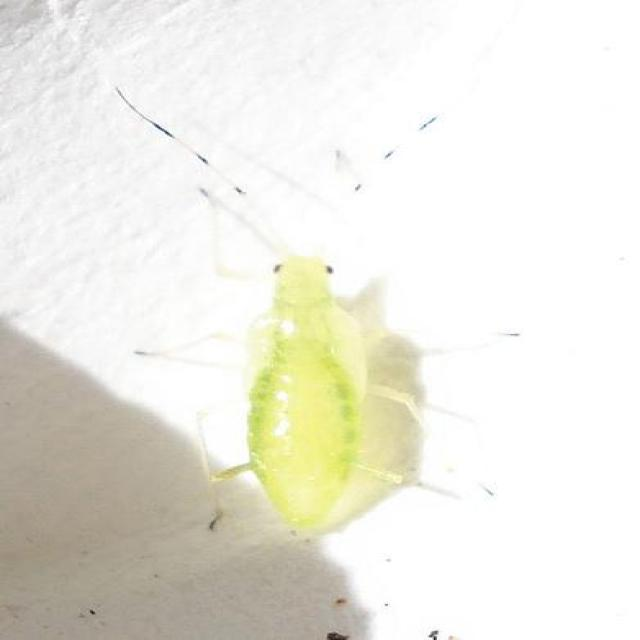Aphids: (165, 151, 462, 553)
